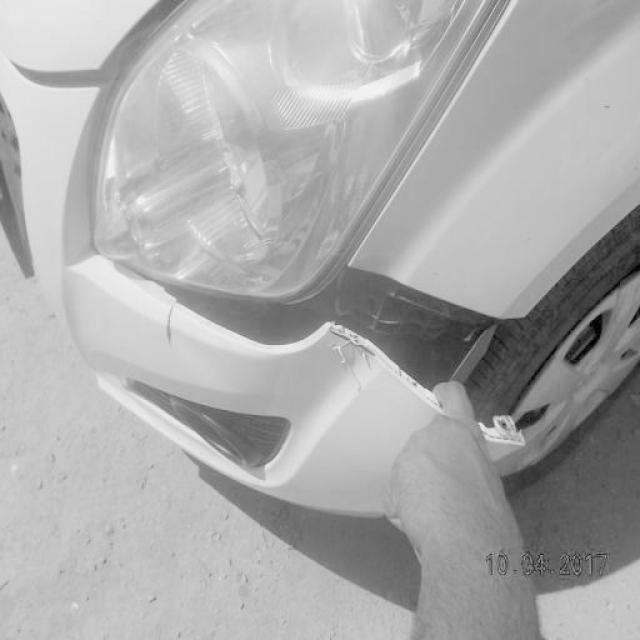car damage: (142, 267, 526, 444)
